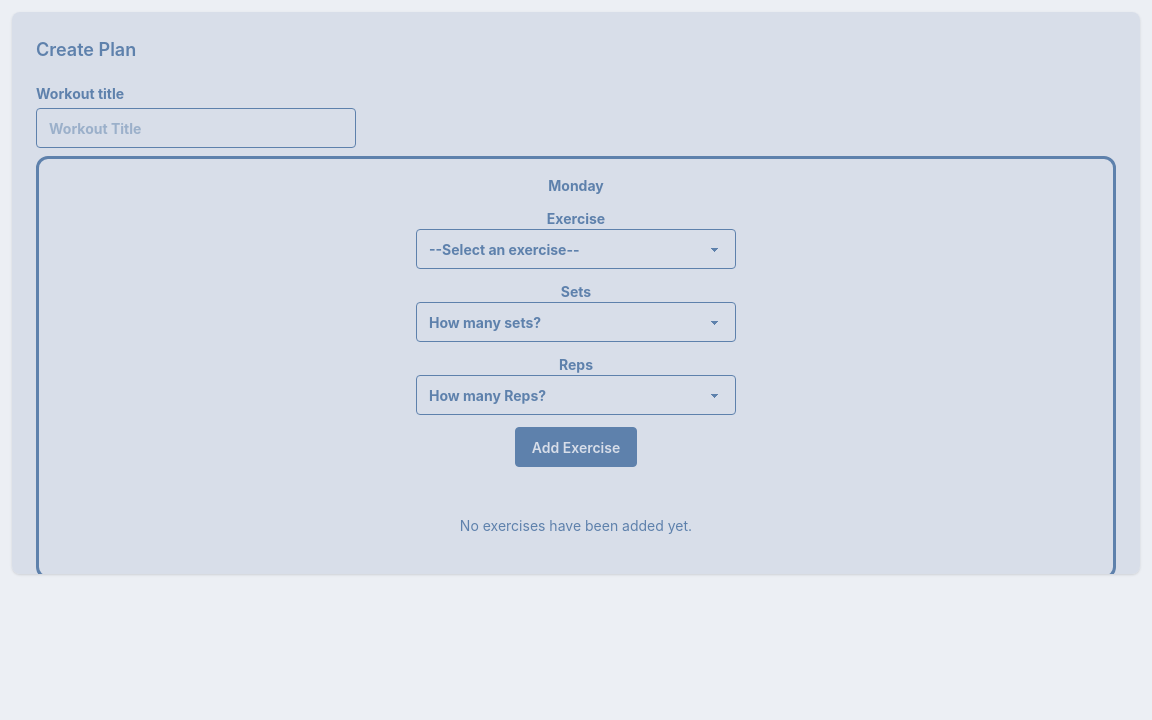
it: CreatePlan › adds an exercise to Monday's workout
Select "Push Up" in the dropdown labelled "Exercise": (576, 249) left=416, top=229, right=736, bottom=269
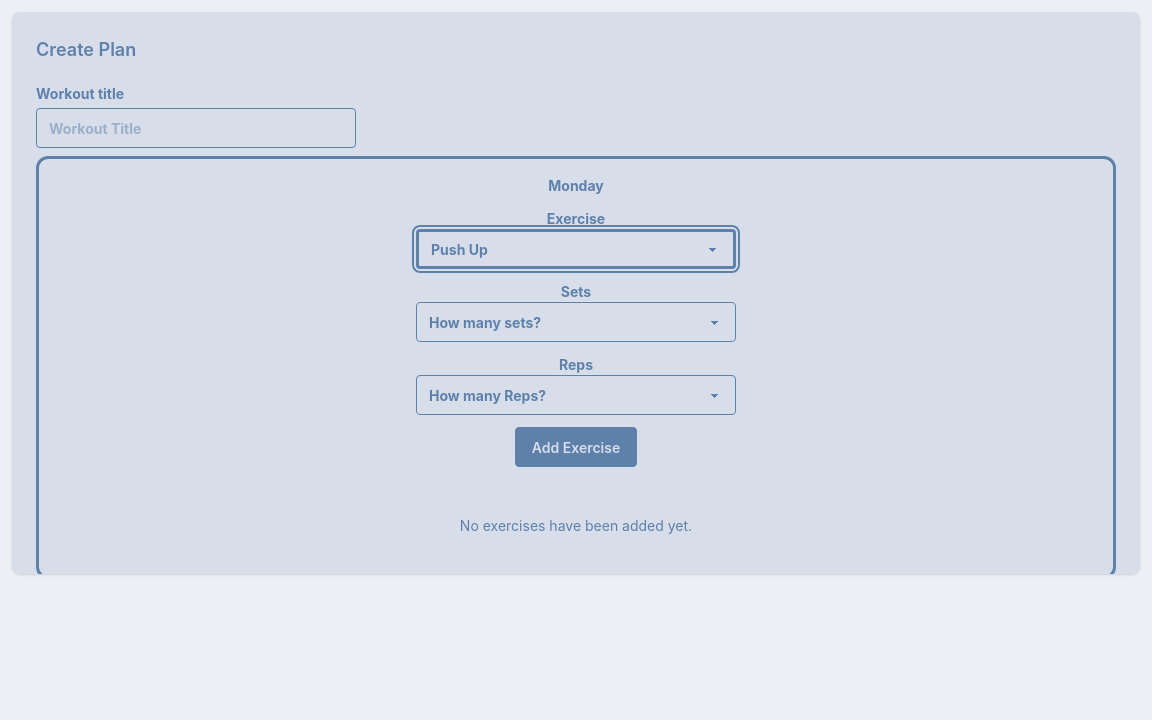
Select "3" in the dropdown labelled "Sets": (576, 322) left=416, top=302, right=736, bottom=342
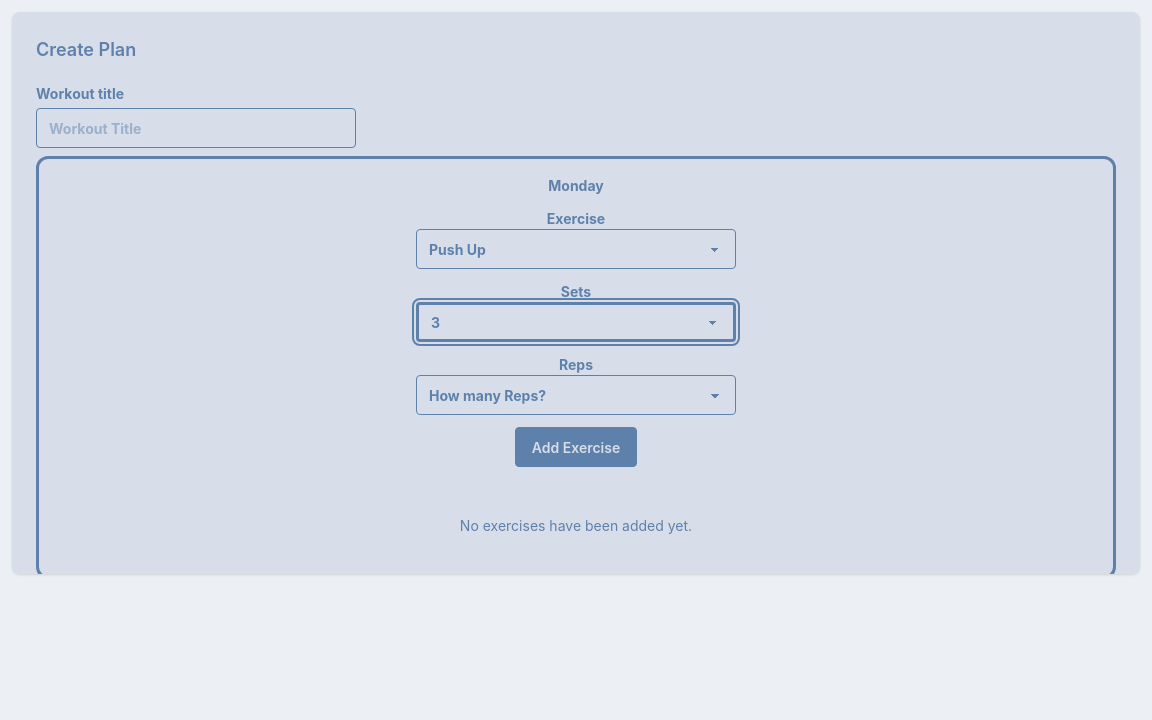
Select "10" in the dropdown labelled "Reps": (576, 395) left=416, top=375, right=736, bottom=415
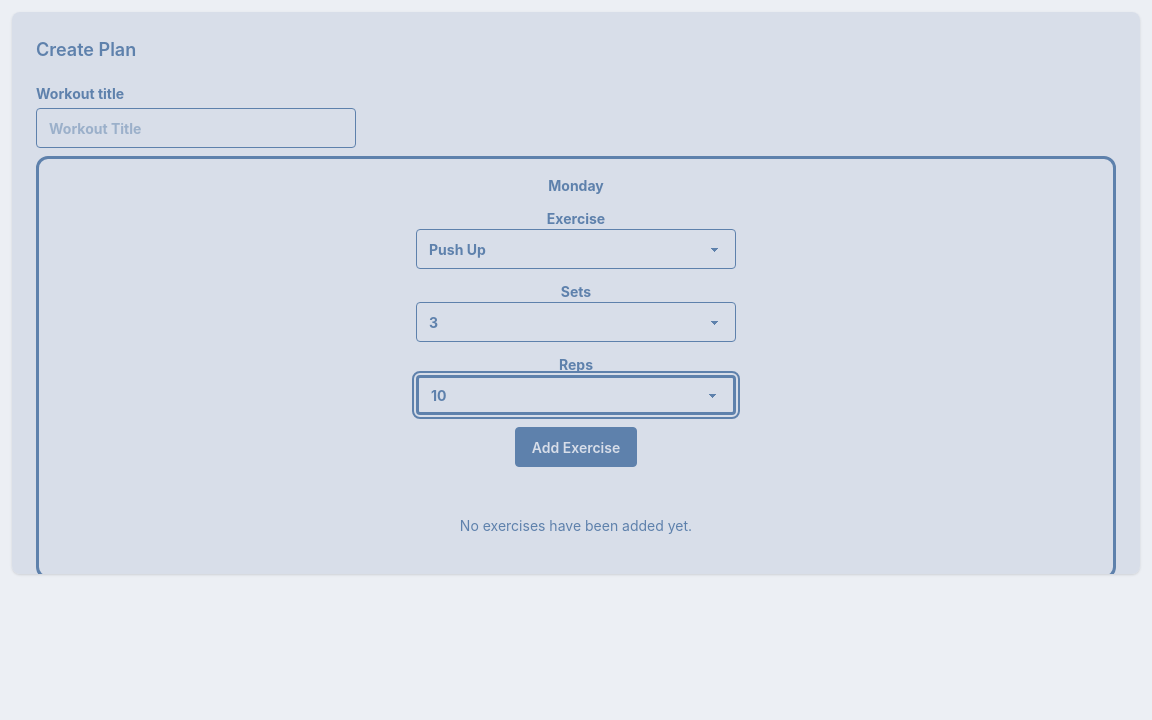
Click the button "Add Exercise": (576, 447) left=515, top=427, right=637, bottom=467
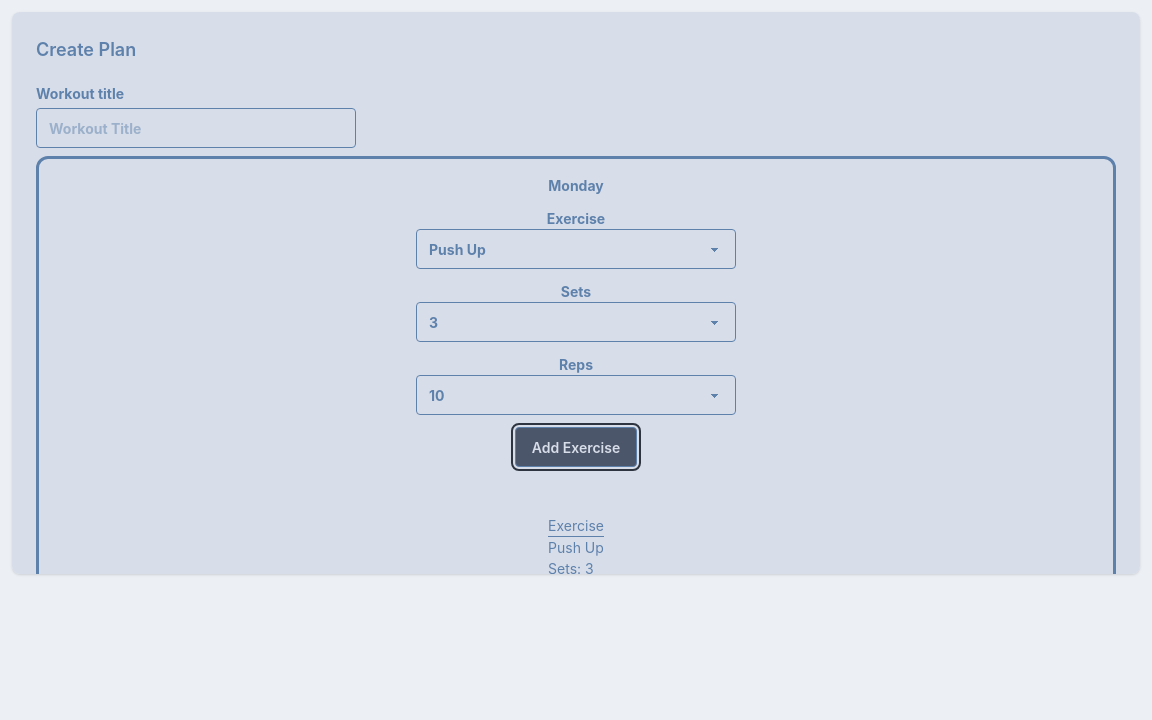
Expected: the list item "Sets: 3" is shown, left=548, top=560, right=594, bottom=574
